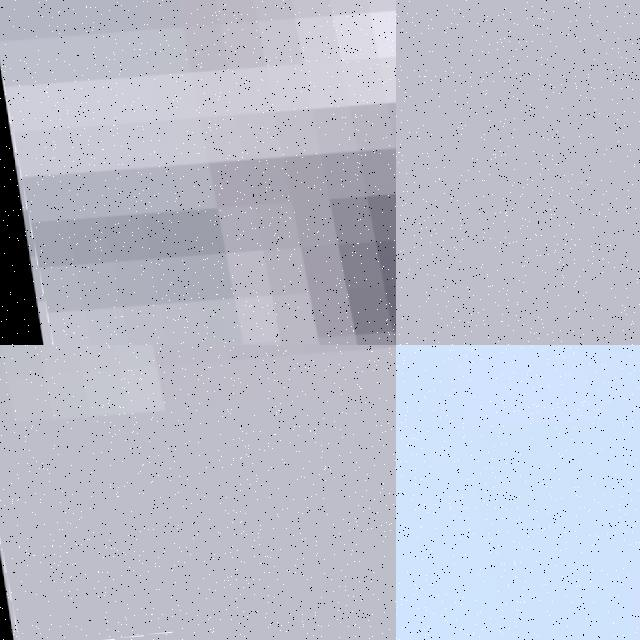drone: (0, 0, 396, 345), (0, 345, 396, 640), (396, 345, 640, 640)
